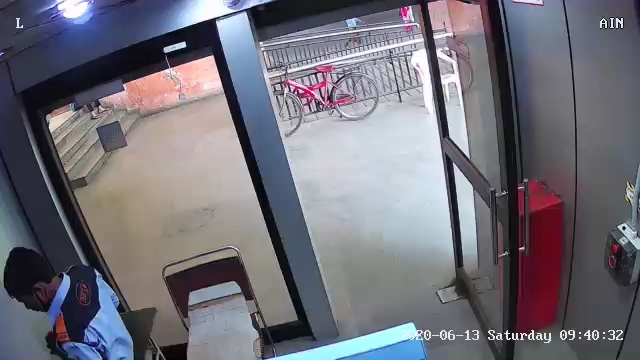open: (393, 2, 559, 357)
